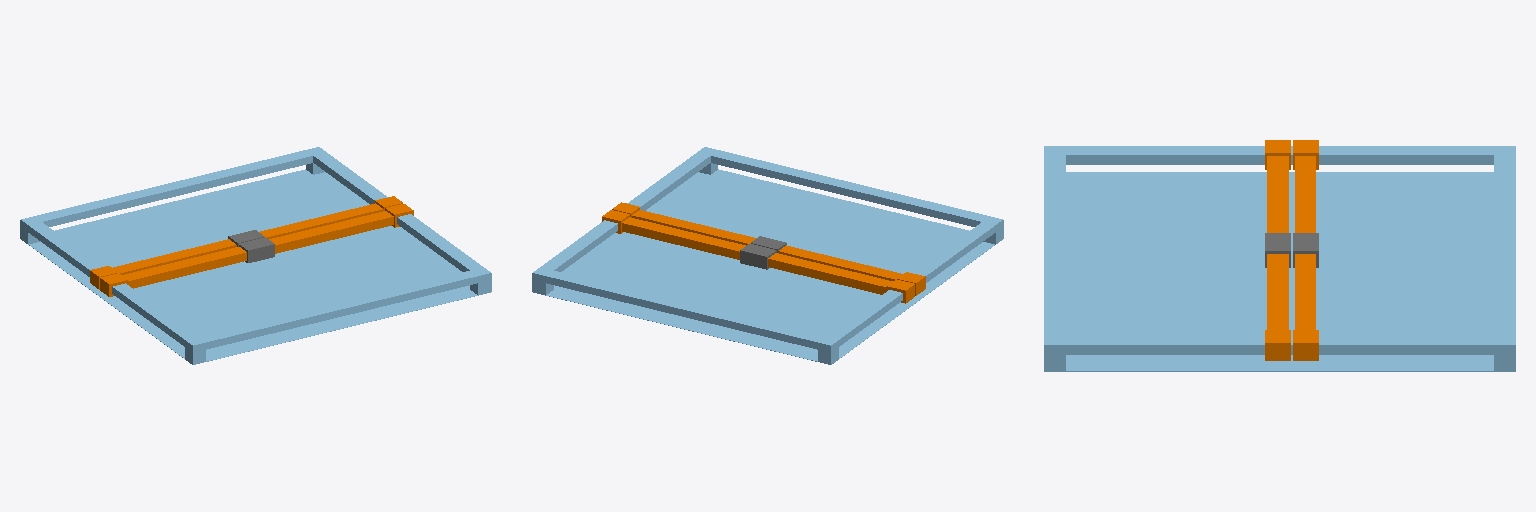
URDF robot description (assembly_1):
<?xml version="1.0"?>
<robot name="assembly_1">

  <!-- CAMERA HOLDER 1 -->
  <link name="cam_holder">
    <inertial>
      <mass value="64895.2"/>
      <origin xyz="-1.43868e-16 -2.5 -1.50696" rpy="0 0 0"/>
      <inertia ixx="456114" ixy="7.70863e-12" ixz="2.40456e-11" iyy="324483" iyz="-2.88116e-11" izz="401412"/>
    </inertial>
    <visual>
      <origin xyz="0 -2.5 -7.125" rpy="0 0 0"/>
      <geometry>
        <mesh filename="package://nvidia_inventory_swarm/meshes/cam_holder.stl" scale="1 1 1"/>
      </geometry>
      <material name="holder_grey">
        <color rgba="0.498039 0.498039 0.498039 1"/>
      </material>
    </visual>
    <collision>
      <origin xyz="0 -2.5 -7.125" rpy="0 0 0"/>
      <geometry>
        <mesh filename="package://nvidia_inventory_swarm/meshes/cam_holder.stl" scale="1 1 1"/>
      </geometry>
    </collision>
  </link>

  <!-- CAMERA HOLDER 2 -->
  <link name="cam_holder_1">
    <inertial>
      <mass value="64895.2"/>
      <origin xyz="-1.43868e-16 2.5 -1.50696" rpy="0 0 0"/>
      <inertia ixx="456114" ixy="7.70863e-12" ixz="2.40456e-11" iyy="324483" iyz="-2.88116e-11" izz="401412"/>
    </inertial>
    <visual>
      <origin xyz="0 2.5 -7.125" rpy="0 0 0"/>
      <geometry>
        <mesh filename="package://nvidia_inventory_swarm/meshes/cam_holder.stl" scale="1 1 1"/>
      </geometry>
      <material name="holder_grey">
        <color rgba="0.498039 0.498039 0.498039 1"/>
      </material>
    </visual>
    <collision>
      <origin xyz="0 2.5 -7.125" rpy="0 0 0"/>
      <geometry>
        <mesh filename="package://nvidia_inventory_swarm/meshes/cam_holder.stl" scale="1 1 1"/>
      </geometry>
    </collision>
  </link>

  <!-- CAMERA HOLDER 3 -->
  <link name="cam_holder_2">
    <inertial>
      <mass value="64895.2"/>
      <origin xyz="-1.43868e-16 2.5 -1.50696" rpy="0 0 0"/>
      <inertia ixx="456114" ixy="7.70863e-12" ixz="2.40456e-11" iyy="324483" iyz="-2.88116e-11" izz="401412"/>
    </inertial>
    <visual>
      <origin xyz="0 2.5 -7.125" rpy="0 0 0"/>
      <geometry>
        <mesh filename="package://nvidia_inventory_swarm/meshes/cam_holder.stl" scale="1 1 1"/>
      </geometry>
      <material name="holder_grey">
        <color rgba="0.498039 0.498039 0.498039 1"/>
      </material>
    </visual>
    <collision>
      <origin xyz="0 2.5 -7.125" rpy="0 0 0"/>
      <geometry>
        <mesh filename="package://nvidia_inventory_swarm/meshes/cam_holder.stl" scale="1 1 1"/>
      </geometry>
    </collision>
  </link>

  <!-- CAMERA HOLDER 4 -->
  <link name="cam_holder_3">
    <inertial>
      <mass value="64895.2"/>
      <origin xyz="-1.43868e-16 -2.5 1.49304" rpy="0 0 0"/>
      <inertia ixx="456114" ixy="7.70863e-12" ixz="2.40456e-11" iyy="324483" iyz="-2.88116e-11" izz="401412"/>
    </inertial>
    <visual>
      <origin xyz="0 -2.5 -4.125" rpy="0 0 0"/>
      <geometry>
        <mesh filename="package://nvidia_inventory_swarm/meshes/cam_holder.stl" scale="1 1 1"/>
      </geometry>
      <material name="holder_grey">
        <color rgba="0.498039 0.498039 0.498039 1"/>
      </material>
    </visual>
    <collision>
      <origin xyz="0 -2.5 -4.125" rpy="0 0 0"/>
      <geometry>
        <mesh filename="package://nvidia_inventory_swarm/meshes/cam_holder.stl" scale="1 1 1"/>
      </geometry>
    </collision>
  </link>

  <!-- CAMERA 1 -->
  <link name="camera">
    <inertial>
      <mass value="4734"/>
      <origin xyz="-1.4803e-16 4.15964e-16 0.36" rpy="0 0 0"/>
      <inertia ixx="2670.13" ixy="-1.78989e-13" ixz="-3.78417e-14" iyy="2670.13" iyz="-2.95243e-14" izz="4931.25"/>
    </inertial>
    <visual>
      <origin xyz="-7.40149e-17 4.36688e-16 -2.6" rpy="0 0 0"/>
      <geometry>
        <mesh filename="package://nvidia_inventory_swarm/meshes/camera.stl" scale="1 1 1"/>
      </geometry>
      <material name="camera_yellow">
        <color rgba="0.980392 0.713726 0.00392157 1"/>
      </material>
    </visual>
    <collision>
      <origin xyz="-7.40149e-17 4.36688e-16 -2.6" rpy="0 0 0"/>
      <geometry>
        <mesh filename="package://nvidia_inventory_swarm/meshes/camera.stl" scale="1 1 1"/>
      </geometry>
    </collision>
  </link>

  <!-- CAMERA 2 -->
  <link name="camera_1">
    <inertial>
      <mass value="4734"/>
      <origin xyz="-1.4803e-16 4.15964e-16 0.36" rpy="0 0 0"/>
      <inertia ixx="2670.13" ixy="-1.78989e-13" ixz="-3.78417e-14" iyy="2670.13" iyz="-2.95243e-14" izz="4931.25"/>
    </inertial>
    <visual>
      <origin xyz="-7.40149e-17 4.36688e-16 -2.6" rpy="0 0 0"/>
      <geometry>
        <mesh filename="package://nvidia_inventory_swarm/meshes/camera.stl" scale="1 1 1"/>
      </geometry>
      <material name="camera_yellow">
        <color rgba="0.980392 0.713726 0.00392157 1"/>
      </material>
    </visual>
    <collision>
      <origin xyz="-7.40149e-17 4.36688e-16 -2.6" rpy="0 0 0"/>
      <geometry>
        <mesh filename="package://nvidia_inventory_swarm/meshes/camera.stl" scale="1 1 1"/>
      </geometry>
    </collision>
  </link>

  <!-- CAMERA 3 -->
  <link name="camera_2">
    <inertial>
      <mass value="4734"/>
      <origin xyz="-1.4803e-16 4.15964e-16 0.36" rpy="0 0 0"/>
      <inertia ixx="2670.13" ixy="-1.78989e-13" ixz="-3.78417e-14" iyy="2670.13" iyz="-2.95243e-14" izz="4931.25"/>
    </inertial>
    <visual>
      <origin xyz="-7.40149e-17 4.36688e-16 -2.6" rpy="0 0 0"/>
      <geometry>
        <mesh filename="package://nvidia_inventory_swarm/meshes/camera.stl" scale="1 1 1"/>
      </geometry>
      <material name="camera_yellow">
        <color rgba="0.980392 0.713726 0.00392157 1"/>
      </material>
    </visual>
    <collision>
      <origin xyz="-7.40149e-17 4.36688e-16 -2.6" rpy="0 0 0"/>
      <geometry>
        <mesh filename="package://nvidia_inventory_swarm/meshes/camera.stl" scale="1 1 1"/>
      </geometry>
    </collision>
  </link>

  <!-- CAMERA 4 -->
  <link name="camera_3">
    <inertial>
      <mass value="4734"/>
      <origin xyz="-1.4803e-16 4.15964e-16 0.36" rpy="0 0 0"/>
      <inertia ixx="2670.13" ixy="-1.78989e-13" ixz="-3.78417e-14" iyy="2670.13" iyz="-2.95243e-14" izz="4931.25"/>
    </inertial>
    <visual>
      <origin xyz="-7.40149e-17 4.36688e-16 -2.6" rpy="0 0 0"/>
      <geometry>
        <mesh filename="package://nvidia_inventory_swarm/meshes/camera.stl" scale="1 1 1"/>
      </geometry>
      <material name="camera_yellow">
        <color rgba="0.980392 0.713726 0.00392157 1"/>
      </material>
    </visual>
    <collision>
      <origin xyz="-7.40149e-17 4.36688e-16 -2.6" rpy="0 0 0"/>
      <geometry>
        <mesh filename="package://nvidia_inventory_swarm/meshes/camera.stl" scale="1 1 1"/>
      </geometry>
    </collision>
  </link>

  <!-- ROOT -->
  <link name="root"/>

  <!-- MAIN TUB -->
  <link name="tub">
    <inertial>
      <mass value="7.31035e+06"/>
      <origin xyz="-2.89248e-14 0 4.44612" rpy="0 0 0"/>
      <inertia ixx="1.28515e+10" ixy="1.09711e-05" ixz="-1.90712e-06" iyy="1.28515e+10" iyz="-1.22469e-07" izz="2.56265e+10"/>
    </inertial>
    <visual>
      <origin xyz="0 0 0" rpy="0 0 0"/>
      <geometry>
        <mesh filename="package://nvidia_inventory_swarm/meshes/tub.stl" scale="1 1 1"/>
      </geometry>
      <material name="tub_blue">
        <color rgba="0.615686 0.811765 0.929412 1"/>
      </material>
    </visual>
    <collision>
      <origin xyz="0 0 0" rpy="0 0 0"/>
      <geometry>
        <mesh filename="package://nvidia_inventory_swarm/meshes/tub.stl" scale="1 1 1"/>
      </geometry>
    </collision>
  </link>

  <!-- YELLOW BAR 1 -->
  <link name="yellowbar">
    <inertial>
      <mass value="1.78705e+06"/>
      <origin xyz="55 1.25484e-19 1.265" rpy="0 0 0"/>
      <inertia ixx="5.70279e+06" ixy="-5.56213e-10" ixz="2.33217e-09" iyy="1.90392e+09" iyz="5.44921e-10" izz="1.9061e+09"/>
    </inertial>
    <visual>
      <origin xyz="55 0 -4.36" rpy="0 0 0"/>
      <geometry>
        <mesh filename="package://nvidia_inventory_swarm/meshes/yellowbar.stl" scale="1 1 1"/>
      </geometry>
      <material name="bar_orange">
        <color rgba="0.972549 0.529412 0.003922 1"/>
      </material>
    </visual>
    <collision>
      <origin xyz="55 0 -4.36" rpy="0 0 0"/>
      <geometry>
        <mesh filename="package://nvidia_inventory_swarm/meshes/yellowbar.stl" scale="1 1 1"/>
      </geometry>
    </collision>
  </link>

  <!-- YELLOW BAR 2 -->
  <link name="yellowbar_1">
    <inertial>
      <mass value="1.78705e+06"/>
      <origin xyz="-50 1.25484e-19 -1.265" rpy="0 0 0"/>
      <inertia ixx="5.70279e+06" ixy="-5.56213e-10" ixz="2.33217e-09" iyy="1.90392e+09" iyz="5.44921e-10" izz="1.9061e+09"/>
    </inertial>
    <visual>
      <origin xyz="-50 0 -6.89" rpy="0 0 0"/>
      <geometry>
        <mesh filename="package://nvidia_inventory_swarm/meshes/yellowbar.stl" scale="1 1 1"/>
      </geometry>
      <material name="bar_orange">
        <color rgba="0.972549 0.529412 0.003922 1"/>
      </material>
    </visual>
    <collision>
      <origin xyz="-50 0 -6.89" rpy="0 0 0"/>
      <geometry>
        <mesh filename="package://nvidia_inventory_swarm/meshes/yellowbar.stl" scale="1 1 1"/>
      </geometry>
    </collision>
  </link>

  <!-- FIXED JOINTS -->
  <joint name="fastened_1" type="fixed">
    <origin xyz="0 -2.5 -3.805" rpy="-3.14159 5.47382e-48 -3.69779e-32"/>
    <axis xyz="0 1.4803e-16 -1"/>
    <parent link="cam_holder"/>
    <child link="camera_2"/>
  </joint>

  <joint name="fastened_2" type="fixed">
    <origin xyz="0 2.5 -3.805" rpy="-3.14159 1.82461e-48 -1.2326e-32"/>
    <axis xyz="0 1.4803e-16 -1"/>
    <parent link="cam_holder_1"/>
    <child link="camera"/>
  </joint>

  <joint name="fastened_3" type="fixed">
    <origin xyz="0 -2.5 -0.805" rpy="3.14159 0 0"/>
    <axis xyz="0 1.4803e-16 -1"/>
    <parent link="cam_holder_3"/>
    <child link="camera_1"/>
  </joint>

  <joint name="fastened_4" type="fixed">
    <origin xyz="0 2.5 -3.805" rpy="-3.14159 1.42096e-20 2.12629e-32"/>
    <axis xyz="0 1.4803e-16 -1"/>
    <parent link="cam_holder_2"/>
    <child link="camera_3"/>
  </joint>

  <joint name="fixed_node_to_root_joint" type="fixed">
    <origin xyz="-8.87514 -2.5239 0.455244" rpy="0 0 0"/>
    <axis xyz="0 0 1"/>
    <parent link="root"/>
    <child link="tub"/>
  </joint>

  <!-- PRISMATIC JOINTS -->
  <joint name="slider_1" type="prismatic">
    <origin xyz="-55 -0.5 4.36" rpy="0 0 -7.10543e-17"/>
    <axis xyz="0 -1 0"/>
    <parent link="tub"/>
    <child link="yellowbar"/>
    <limit effort="1" velocity="1" lower="0" upper="46.5"/>
  </joint>

  <joint name="slider_2" type="prismatic">
    <origin xyz="57.5 -2.5 2.765" rpy="2.22829e-65 1.82461e-48 -1.2326e-32"/>
    <axis xyz="1 0 0"/>
    <parent link="yellowbar"/>
    <child link="cam_holder_1"/>
    <limit effort="1" velocity="1" lower="0" upper="44"/>
  </joint>

  <joint name="slider_3" type="prismatic">
    <origin xyz="52.5 2.5 2.765" rpy="0 -1.49214e-94 0"/>
    <axis xyz="1 0 0"/>
    <parent link="yellowbar"/>
    <child link="cam_holder"/>
    <limit effort="1" velocity="1" lower="-44" upper="0"/>
  </joint>

  <joint name="slider_4" type="prismatic">
    <origin xyz="50 6 6.89" rpy="0 0 0"/>
    <axis xyz="0 1 0"/>
    <parent link="tub"/>
    <child link="yellowbar_1"/>
    <limit effort="1" velocity="1" lower="0" upper="41"/>
  </joint>

  <joint name="slider_5" type="prismatic">
    <origin xyz="-47.5 2.5 -2.765" rpy="0 0 0"/>
    <axis xyz="1 0 0"/>
    <parent link="yellowbar_1"/>
    <child link="cam_holder_3"/>
    <limit effort="1" velocity="1" lower="0" upper="44"/>
  </joint>

  <joint name="slider_6" type="prismatic">
    <origin xyz="-52.5 -2.5 0.235" rpy="0 0 0"/>
    <axis xyz="1 0 0"/>
    <parent link="yellowbar_1"/>
    <child link="cam_holder_2"/>
    <limit effort="1" velocity="1" lower="-44" upper="0"/>
  </joint>

  <!-- GAZEBO CAMERA SENSOR 1 -->
  <gazebo reference="camera">
    <sensor name="camera_sensor_1" type="camera">
      <pose>0 0 0 0 1.5707963 0</pose>
      <always_on>true</always_on>
      <update_rate>10</update_rate>
      <visualize>true</visualize>
      <topic>camera_1/image</topic>
      <camera>
        <horizontal_fov>1.5707963</horizontal_fov>
        <image>
          <width>1920</width>
          <height>1080</height>
          <format>R8G8B8</format>
        </image>
        <clip>
          <near>0.05</near>
          <far>100</far>
        </clip>
      </camera>
    </sensor>
  </gazebo>

  <!-- GAZEBO CAMERA SENSOR 2 -->
  <gazebo reference="camera_1">
    <sensor name="camera_sensor_2" type="camera">
      <pose>0 0 0 0 1.5707963 0</pose>
      <always_on>true</always_on>
      <update_rate>10</update_rate>
      <visualize>true</visualize>
      <topic>camera_2/image</topic>
      <camera>
        <horizontal_fov>1.5707963</horizontal_fov>
        <image>
          <width>1920</width>
          <height>1080</height>
          <format>R8G8B8</format>
        </image>
        <clip>
          <near>0.05</near>
          <far>100</far>
        </clip>
      </camera>
    </sensor>
  </gazebo>

  <!-- GAZEBO CAMERA SENSOR 3 -->
  <gazebo reference="camera_2">
    <sensor name="camera_sensor_3" type="camera">
      <pose>0 0 0 0 1.5707963 0</pose>
      <always_on>true</always_on>
      <update_rate>10</update_rate>
      <visualize>true</visualize>
      <topic>camera_3/image</topic>
      <camera>
        <horizontal_fov>1.5707963</horizontal_fov>
        <image>
          <width>1920</width>
          <height>1080</height>
          <format>R8G8B8</format>
        </image>
        <clip>
          <near>0.05</near>
          <far>100</far>
        </clip>
      </camera>
    </sensor>
  </gazebo>

  <!-- GAZEBO CAMERA SENSOR 4 -->
  <gazebo reference="camera_3">
    <sensor name="camera_sensor_4" type="camera">
      <pose>0 0 0 0 1.5707963 0</pose>
      <always_on>true</always_on>
      <update_rate>10</update_rate>
      <visualize>true</visualize>
      <topic>camera_4/image</topic>
      <camera>
        <horizontal_fov>1.5707963</horizontal_fov>
        <image>
          <width>1920</width>
          <height>1080</height>
          <format>R8G8B8</format>
        </image>
        <clip>
          <near>0.05</near>
          <far>100</far>
        </clip>
      </camera>
    </sensor>
  </gazebo>

</robot>

--- What the picture shows (computed from the rendered views, not written in the file) ---
3 views of the same robot in one strip: view 1: azimuth 30°, elevation 25°; view 2: azimuth 150°, elevation 25°; view 3: azimuth 270°, elevation 25° (orthographic).
Robot: assembly_1 — 12 links, 11 joints (6 prismatic, 5 fixed); root link root; default pose: every joint at zero.
Links seen in each view (by area): view 1: tub, yellowbar, yellowbar_1; view 2: tub, yellowbar_1, yellowbar; view 3: tub, yellowbar, yellowbar_1.
Link boxes in pixels (box(x1,y1,x2,y2)): tub: box(20, 147, 491, 364); yellowbar: box(100, 204, 413, 296); yellowbar_1: box(90, 196, 402, 289); tub: box(532, 147, 1003, 364); yellowbar_1: box(602, 210, 914, 303); yellowbar: box(612, 202, 925, 295); tub: box(1044, 146, 1515, 371); yellowbar: box(1265, 140, 1290, 360); yellowbar_1: box(1293, 140, 1318, 360).
Size in the robot's own frame: 112 by 110 by 7.9 metres.
Meshes: 4 distinct files referenced, 11 mesh visuals loaded (4 binary STL).
